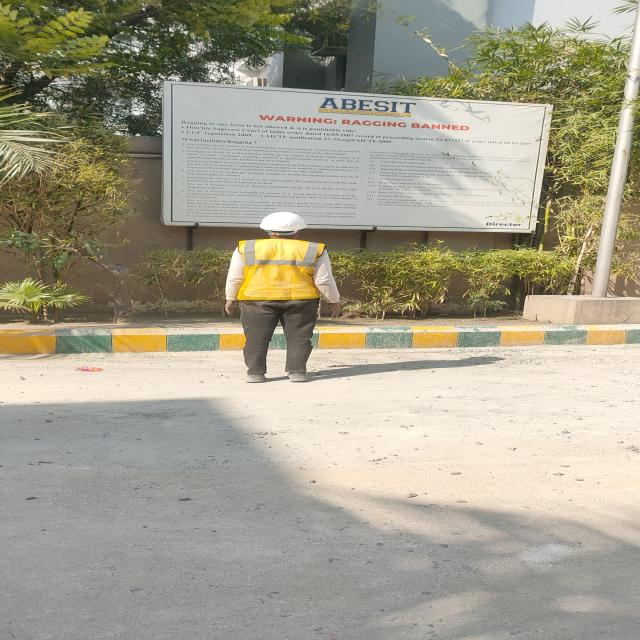safe: (227, 211, 326, 383)
